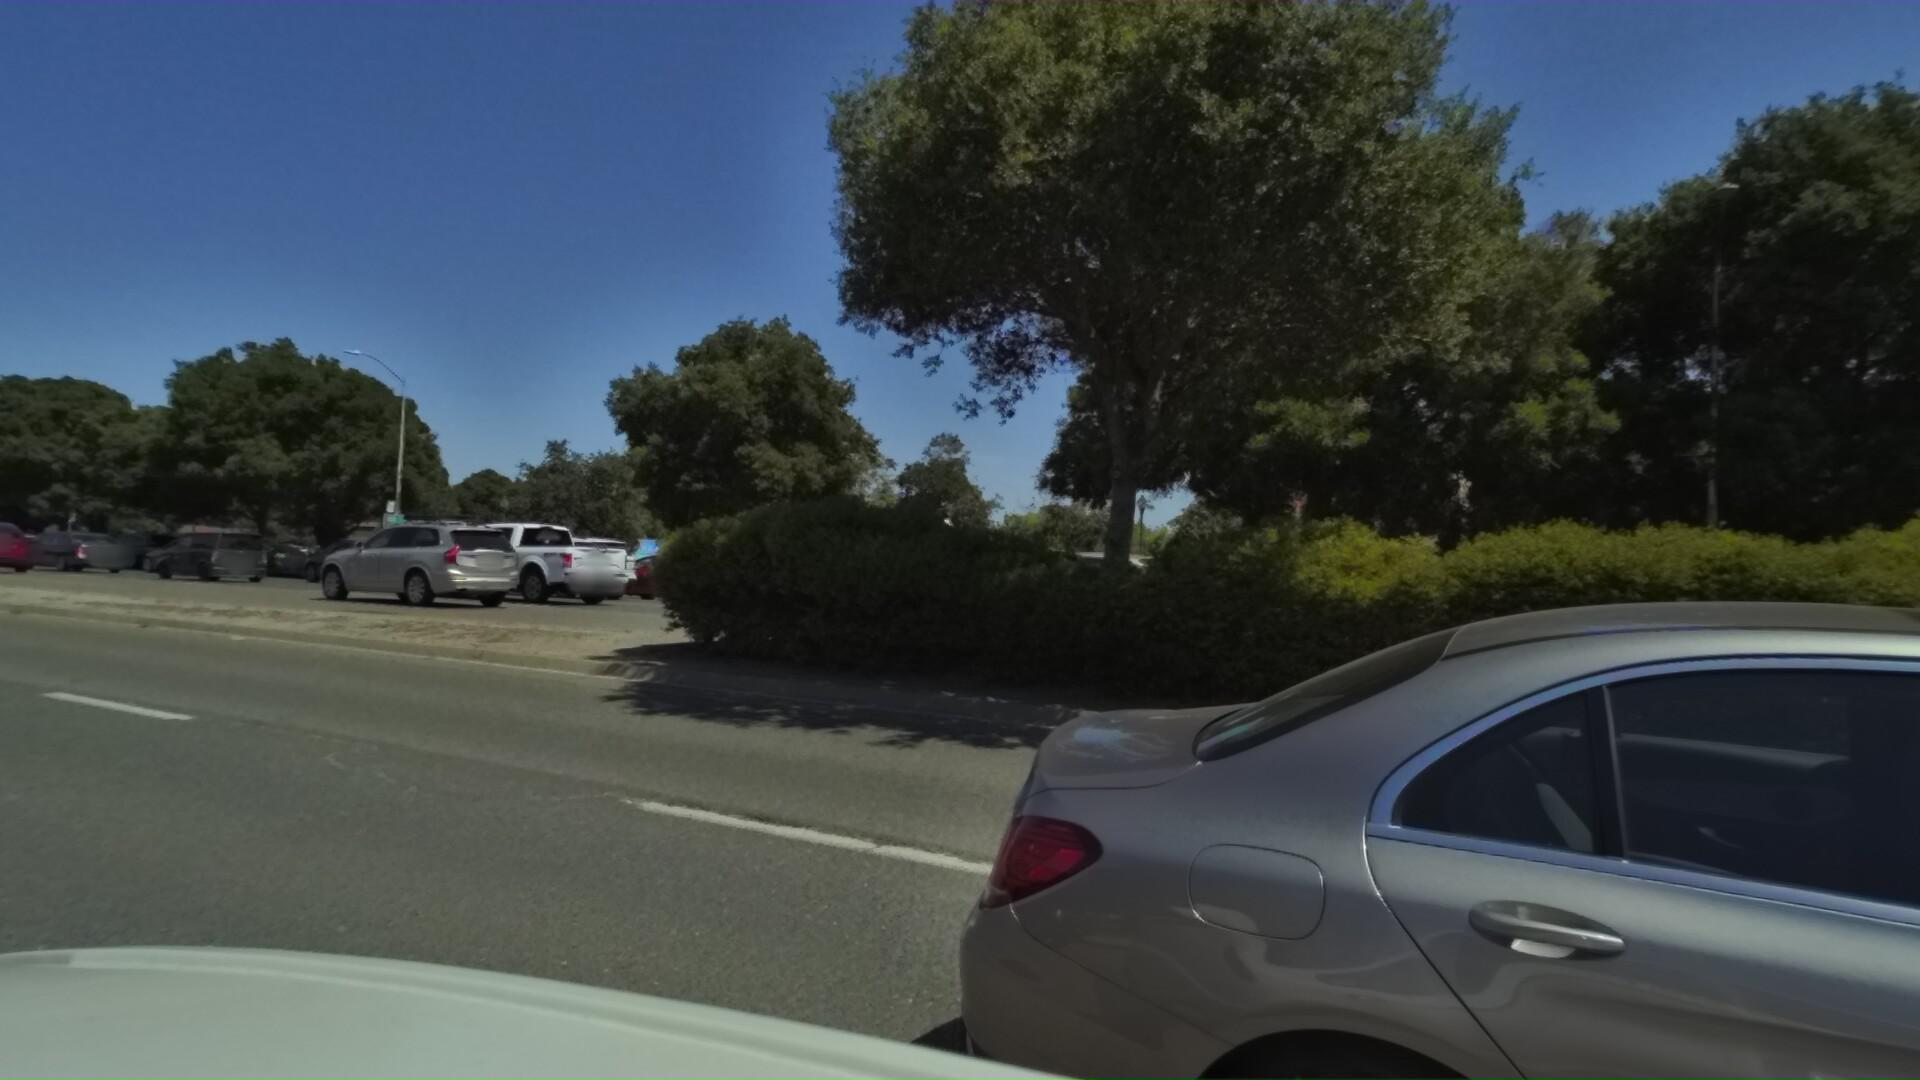car: (994, 516, 1357, 679), (725, 514, 971, 622), (789, 535, 1036, 638), (290, 509, 517, 609), (389, 518, 622, 607), (469, 531, 642, 603), (575, 553, 721, 608), (144, 527, 269, 584), (287, 535, 429, 585), (286, 535, 400, 587), (117, 534, 232, 580), (17, 531, 129, 575), (200, 539, 311, 582), (88, 529, 186, 576), (0, 520, 40, 574)
